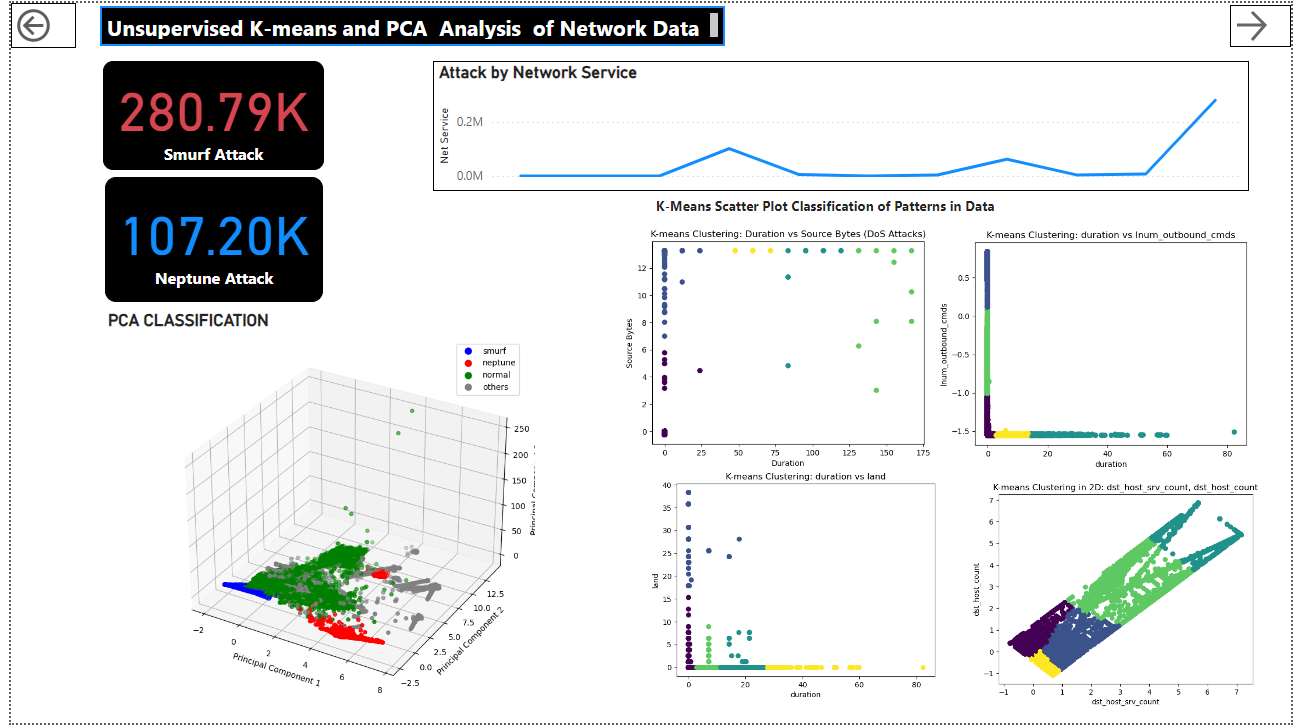

This screenshot's page, from the dashboard's own definition file:
{"tool":"powerbi","page":{"name":"Classification Techniques","canvas":[1280,720],"ordinal":1},"visuals":[{"type":"image","title":"PCA CLASSIFICATION","box":[92,307,487,399],"z":0},{"type":"image","box":[943,471,323,242],"z":1000},{"type":"image","box":[622,460,321,246],"z":2000},{"type":"image","box":[579,217,376,258],"z":3000},{"type":"image","box":[917.2,217.7,330.6,258],"z":4000},{"type":"textbox","box":[640,189,479,29],"z":5000},{"type":"actionButton","box":[0,0,64.5,45.4],"z":6000},{"type":"card","fields":{"Values":["CountNonNull(kddcup99_csv.label)"]},"box":[92,58,221,109],"z":7000},{"type":"card","fields":{"Values":["CountNonNull(kddcup99_csv.label)"]},"box":[94,174,218,125],"z":8000},{"type":"lineChart","title":"Attack by Network Service","fields":{"Category":["kddcup99_csv.label Hierarchy.label","kddcup99_csv.service"],"Y":["CountNonNull(kddcup99_csv.service)"]},"box":[422,58,816,130],"z":9000},{"type":"textbox","box":[89,3,625,40],"z":10000},{"type":"actionButton","box":[1219,2,61,42],"z":11000}]}

Visuals, with their boxes in screenshot pixels (x1, y1, x2, y2), scaled from the page's 1280x720 canvas onto the 1294x726 screenshot:
"PCA CLASSIFICATION" image: l=93, t=310, r=585, b=712
image: l=953, t=475, r=1280, b=719
image: l=629, t=464, r=953, b=712
image: l=585, t=219, r=965, b=479
image: l=927, t=220, r=1261, b=480
textbox: l=647, t=191, r=1131, b=220
actionButton: l=0, t=0, r=65, b=46
card - CountNonNull(kddcup99_csv.label): l=93, t=58, r=316, b=168
card - CountNonNull(kddcup99_csv.label): l=95, t=175, r=315, b=301
"Attack by Network Service" lineChart: l=427, t=58, r=1252, b=190
textbox: l=90, t=3, r=722, b=43
actionButton: l=1232, t=2, r=1293, b=44
